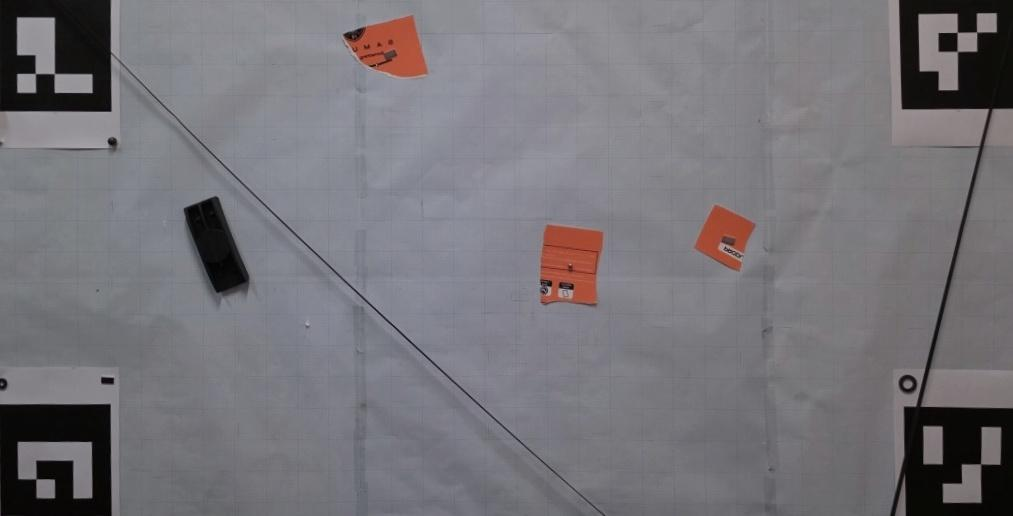obstacle: (184, 196, 250, 294), (343, 15, 427, 79), (540, 223, 603, 306), (695, 203, 756, 272)
